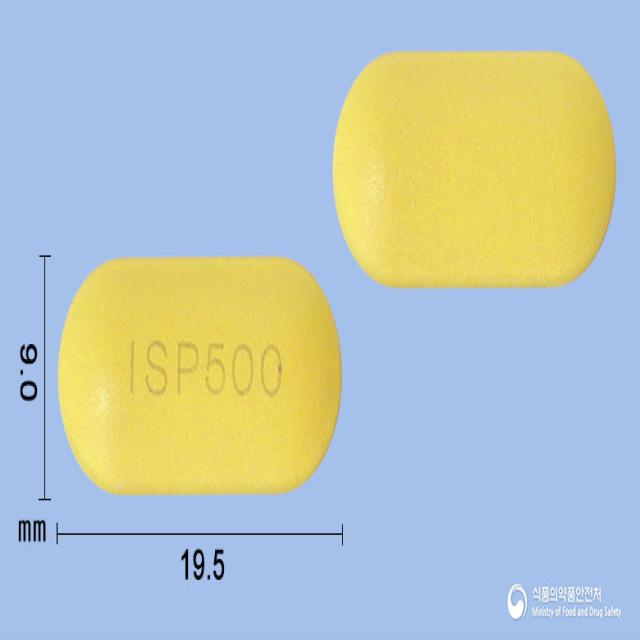Cllaricin: (56, 254, 344, 492)
